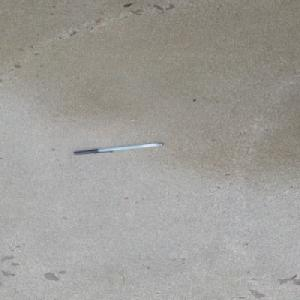Pen: (72, 141, 164, 155)
